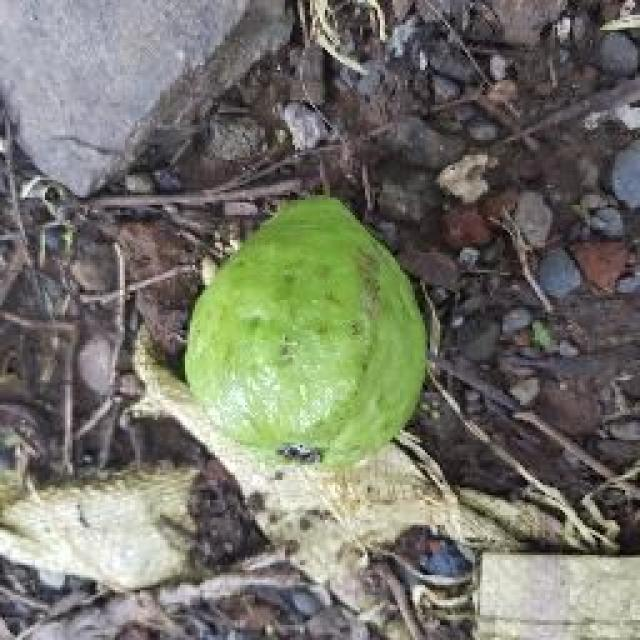Good_Guava: (182, 198, 430, 470)
